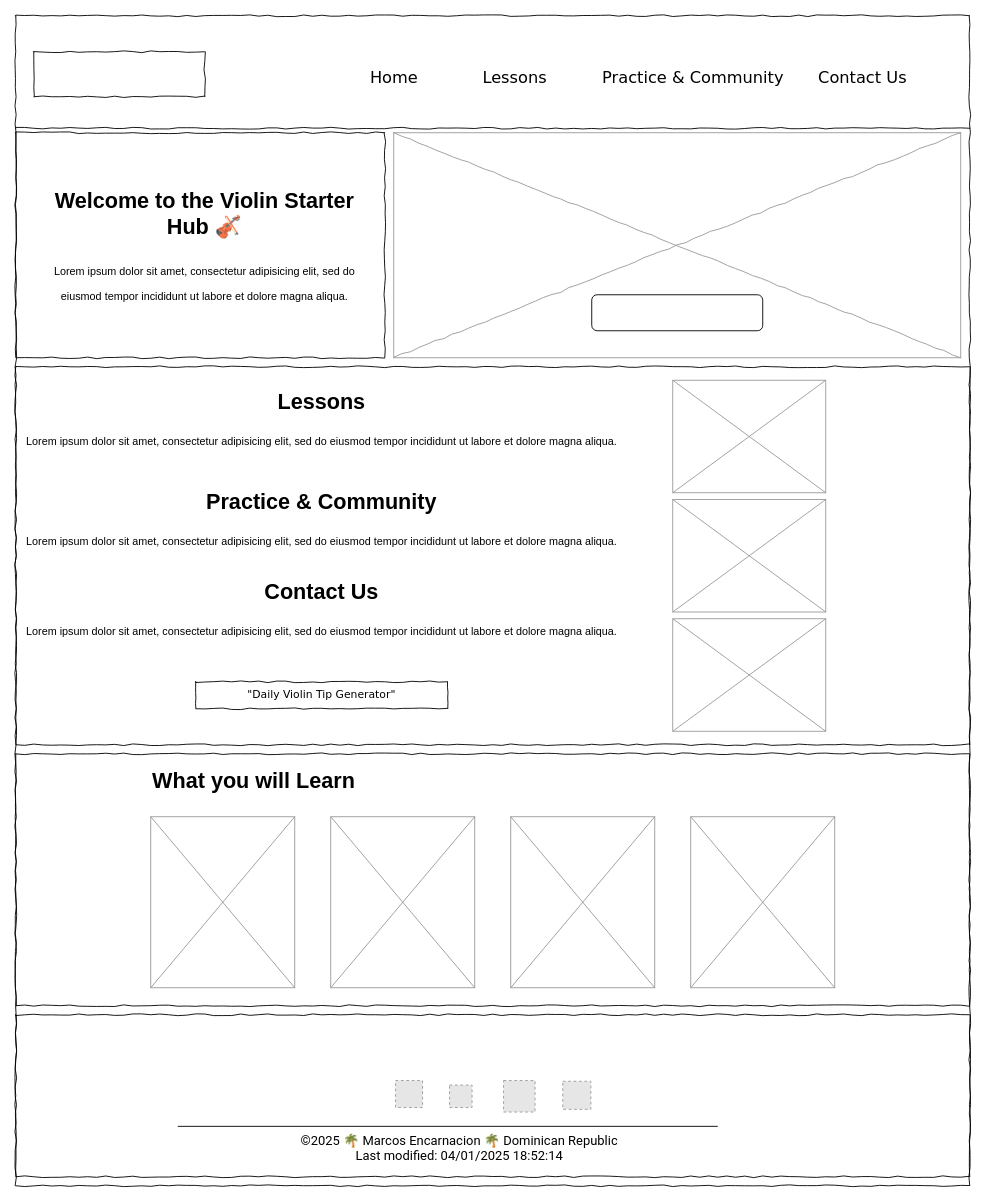
Image size: 986x1202. Some labels were removed from this diagram. Grey dashed boxes stand in for pictures. The shapes that lost their labels are listed below. From the top down, each one's centre as x and y in pixels, then its label:
the point at 119,74: Page Logo
the point at 677,312: Learn How To Play Violin
